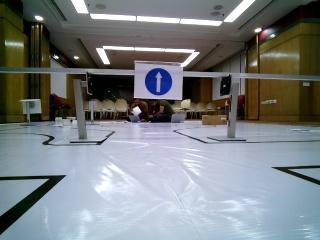straight: (132, 60, 184, 100)
